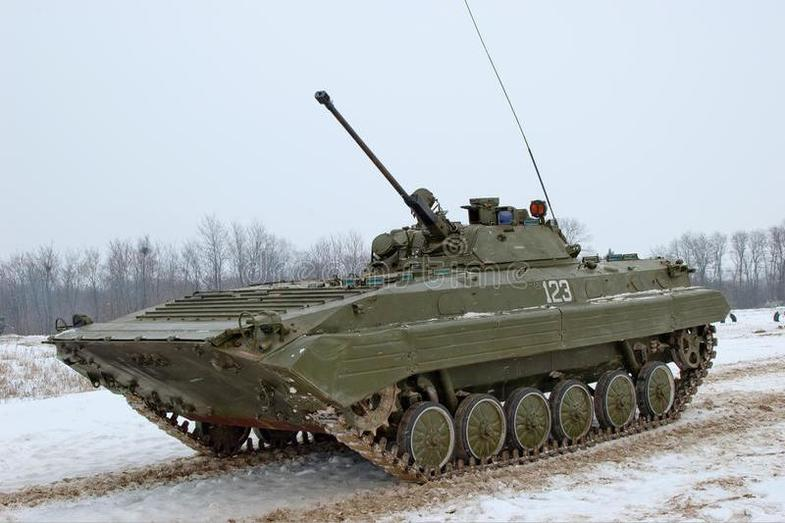bmp: (52, 225, 726, 482)
